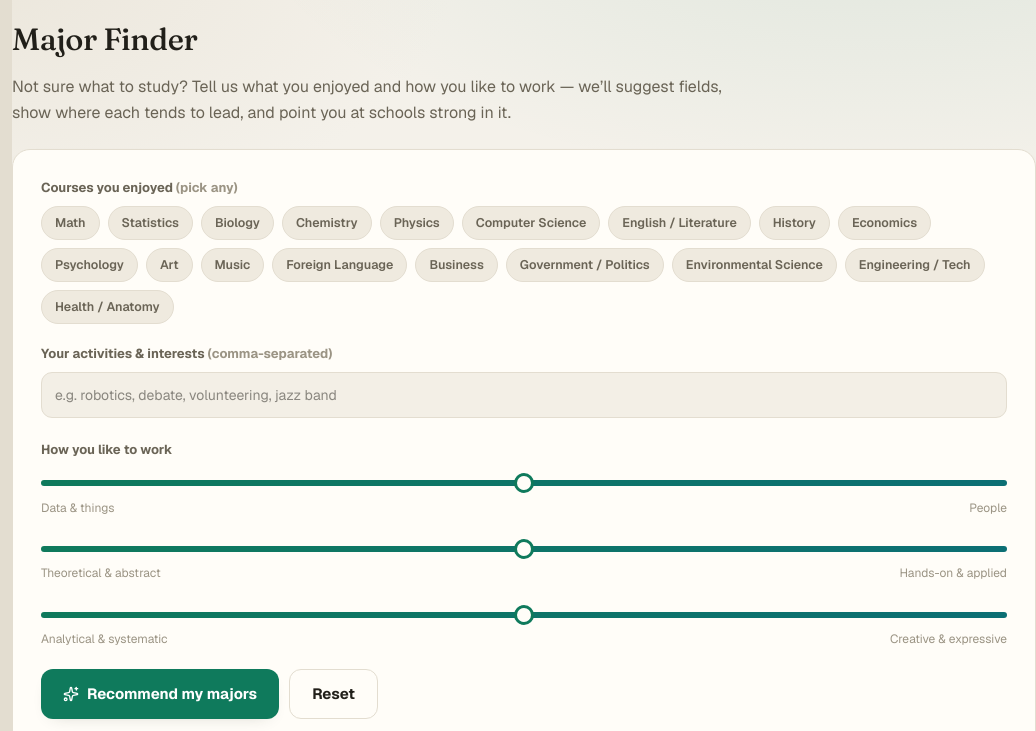
MajorFinder — federal degree data › counts unmeasured schools separately rather than as a no
Click the button "Recommend my majors". click: (160, 694)
box: [41,670,279,720]
(page scrolled)
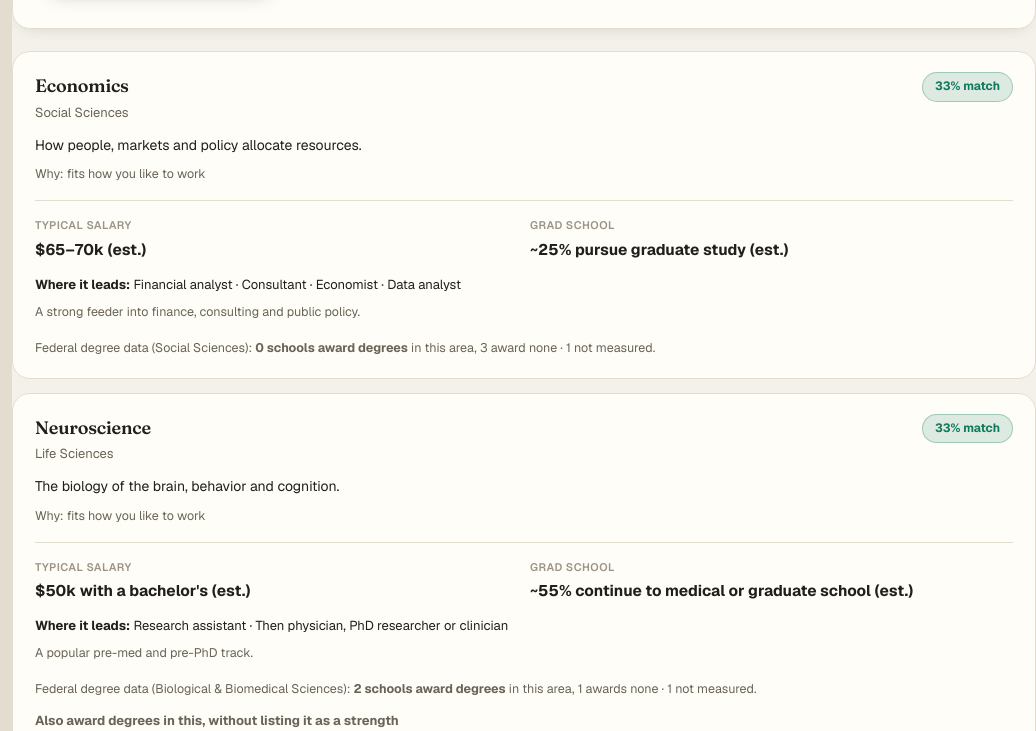
Result: the text "1 not measured" is shown at [35,339,655,356]
